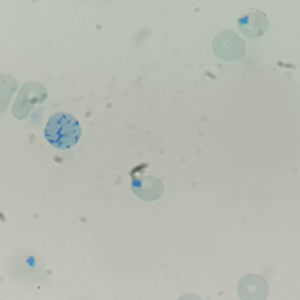aggregate reticulocyte: (43, 111, 83, 150)
erythrocyte: (9, 81, 50, 122), (210, 28, 248, 63), (130, 174, 166, 203), (236, 9, 270, 39)
